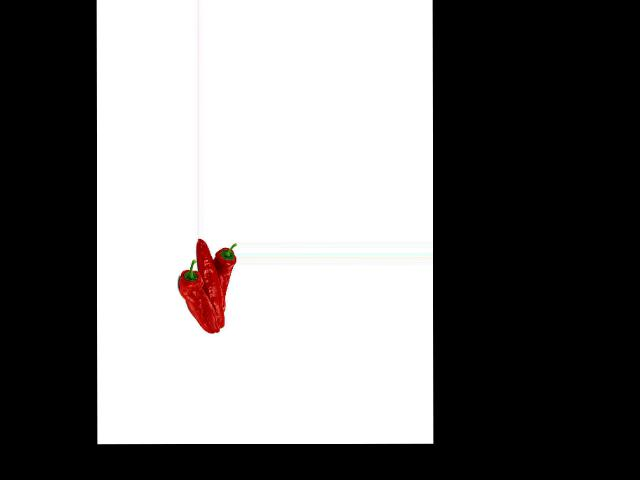bell_pepper: (176, 257, 210, 334)
